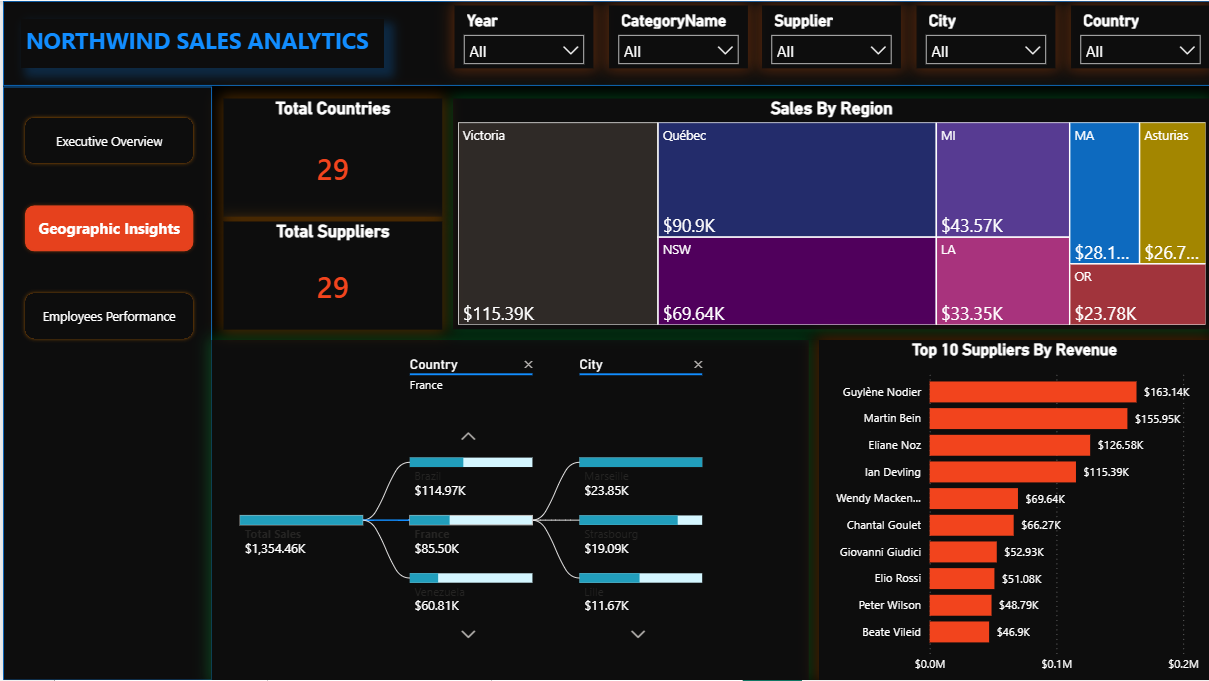

This screenshot's page, from the dashboard's own definition file:
{"tool":"powerbi","page":{"name":"Geographic & Supplier ","canvas":[1280,720],"ordinal":1},"visuals":[{"type":"shape","box":[0,0,1280,90],"z":0},{"type":"shape","box":[0,90,221.7,630],"z":1000},{"type":"decompositionTreeVisual","fields":{"ExplainBy":["Customers.Country","Customers.City"],"Analyze":["Sum(OrderDetails.Total Sales)"]},"box":[221.1,359.5,633.1,361.1],"z":2000},{"type":"treemap","title":"Sales By Region","fields":{"Group":["Suppliers.Region"],"Values":["Sum(OrderDetails.Total Sales)"]},"box":[477.2,103.4,803.3,245],"z":3000},{"type":"barChart","title":"Top 10 Suppliers By Revenue","fields":{"Category":["Suppliers.ContactName"],"Y":["Sum(OrderDetails.Total Sales)"]},"box":[865.3,359.5,415.1,361.1],"z":4000},{"type":"cardVisual","title":"Total Countries","fields":{"Data":["CountNonNull(Suppliers.Country)"]},"box":[233.8,103.4,232.2,125.7],"z":5000},{"type":"cardVisual","title":"Total Suppliers","fields":{"Data":["CountNonNull(Suppliers.SupplierID)"]},"box":[233.8,233.8,232.2,114.5],"z":6000},{"type":"textbox","box":[19.4,19.4,385.4,51.8],"z":7000},{"type":"textbox","box":[11.3,100.4,200.8,61.5],"z":8000},{"type":"pageNavigator","box":[505.2,19.4,709.2,50.2],"z":9000},{"type":"slicer","fields":{"Values":["Suppliers.Country"]},"box":[4.8,324.5,211.6,81.1],"z":10000},{"type":"slicer","fields":{"Values":["Suppliers.City"]},"box":[4.8,419.9,211.6,87.5],"z":11000},{"type":"slicer","fields":{"Values":["Suppliers.ContactName"]},"box":[4.8,518.5,211.6,82.7],"z":12000},{"type":"slicer","fields":{"Values":["Categories.CategoryName"]},"box":[4.8,612.4,211.6,87.5],"z":13000},{"type":"advancedSlicerVisual","fields":{"Values":["Orders.OrderDate.Variation.Date Hierarchy.Year"]},"box":[8,167,206.8,157.5],"z":14000}]}

Visuals, with their boxes in screenshot pixels (x1, y1, x2, y2), scaled from the page's 1280x720 canvas onto the 1209x681 screenshot:
shape: x1=0 y1=0 x2=1208 y2=85
shape: x1=0 y1=85 x2=209 y2=680
decompositionTreeVisual - Customers.Country x Customers.City: x1=209 y1=340 x2=807 y2=680
"Sales By Region" treemap: x1=451 y1=98 x2=1208 y2=330
"Top 10 Suppliers By Revenue" barChart: x1=817 y1=340 x2=1208 y2=680
"Total Countries" cardVisual: x1=221 y1=98 x2=440 y2=217
"Total Suppliers" cardVisual: x1=221 y1=221 x2=440 y2=329
textbox: x1=18 y1=18 x2=382 y2=67
textbox: x1=11 y1=95 x2=200 y2=153
pageNavigator: x1=477 y1=18 x2=1147 y2=66
slicer - Suppliers.Country: x1=5 y1=307 x2=204 y2=384
slicer - Suppliers.City: x1=5 y1=397 x2=204 y2=480
slicer - Suppliers.ContactName: x1=5 y1=490 x2=204 y2=569
slicer - Categories.CategoryName: x1=5 y1=579 x2=204 y2=662
advancedSlicerVisual - Orders.OrderDate.Variation.Date Hierarchy.Year: x1=8 y1=158 x2=203 y2=307
